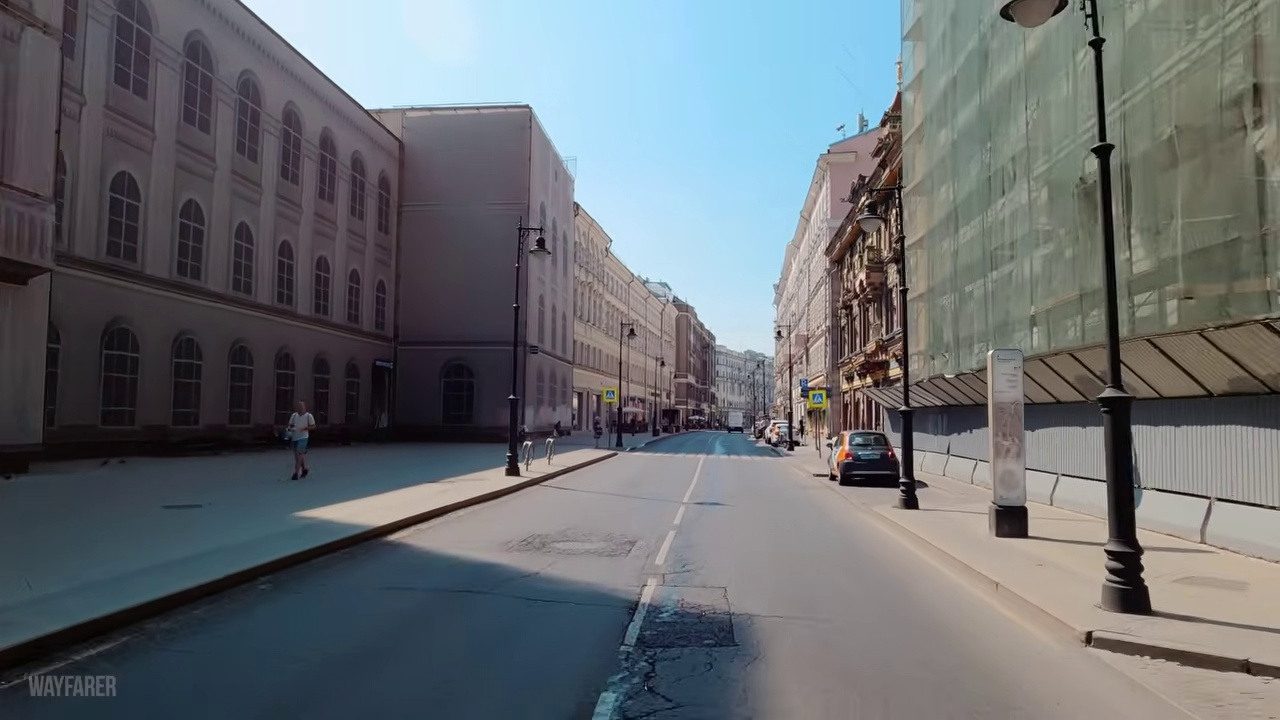apagada: (857, 202, 884, 232), (524, 233, 549, 261)
